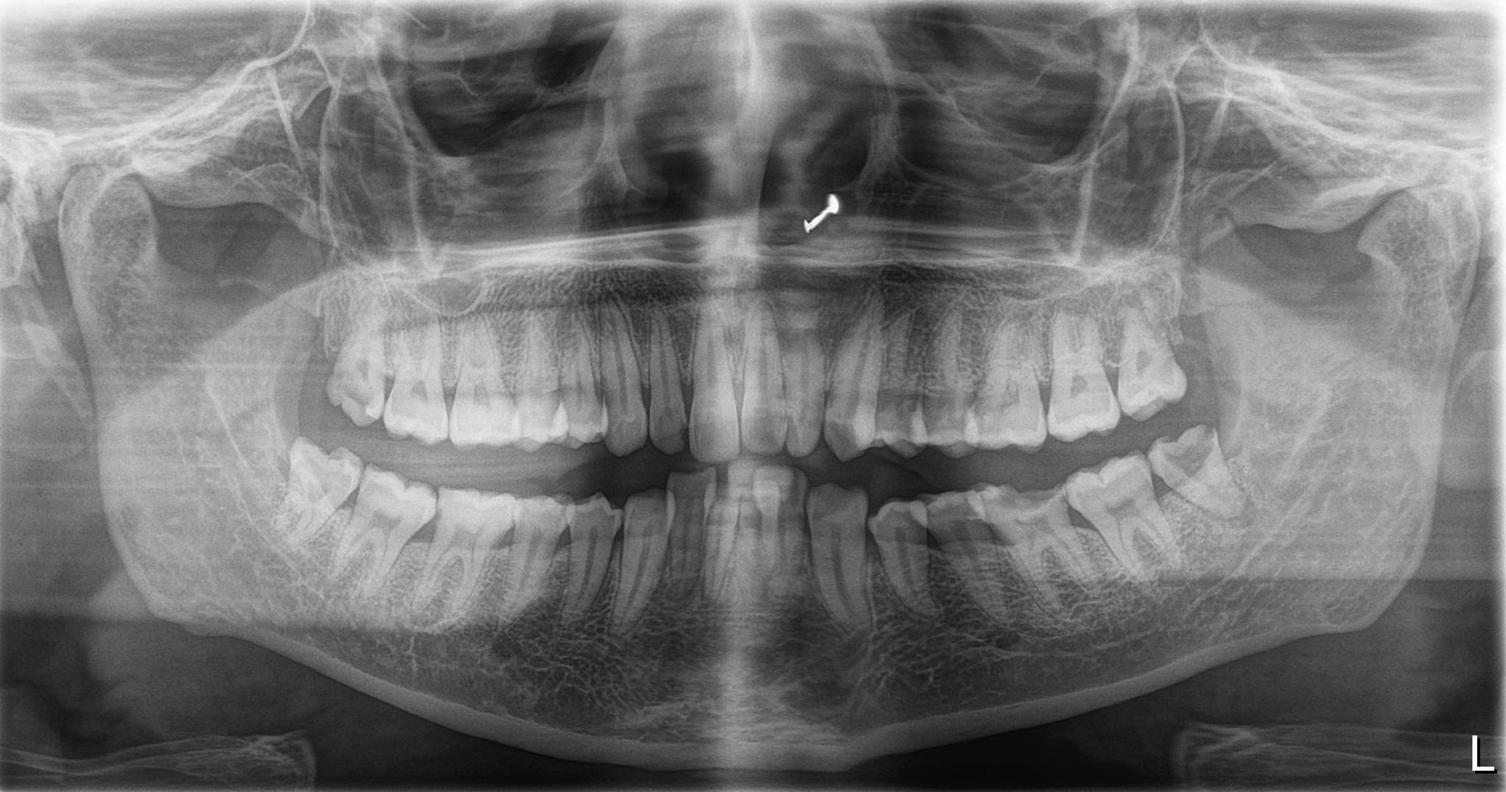Dental Caries: (980, 485, 1071, 546)
Impacted Third Molar: (1160, 441, 1273, 539), (292, 437, 363, 546)
